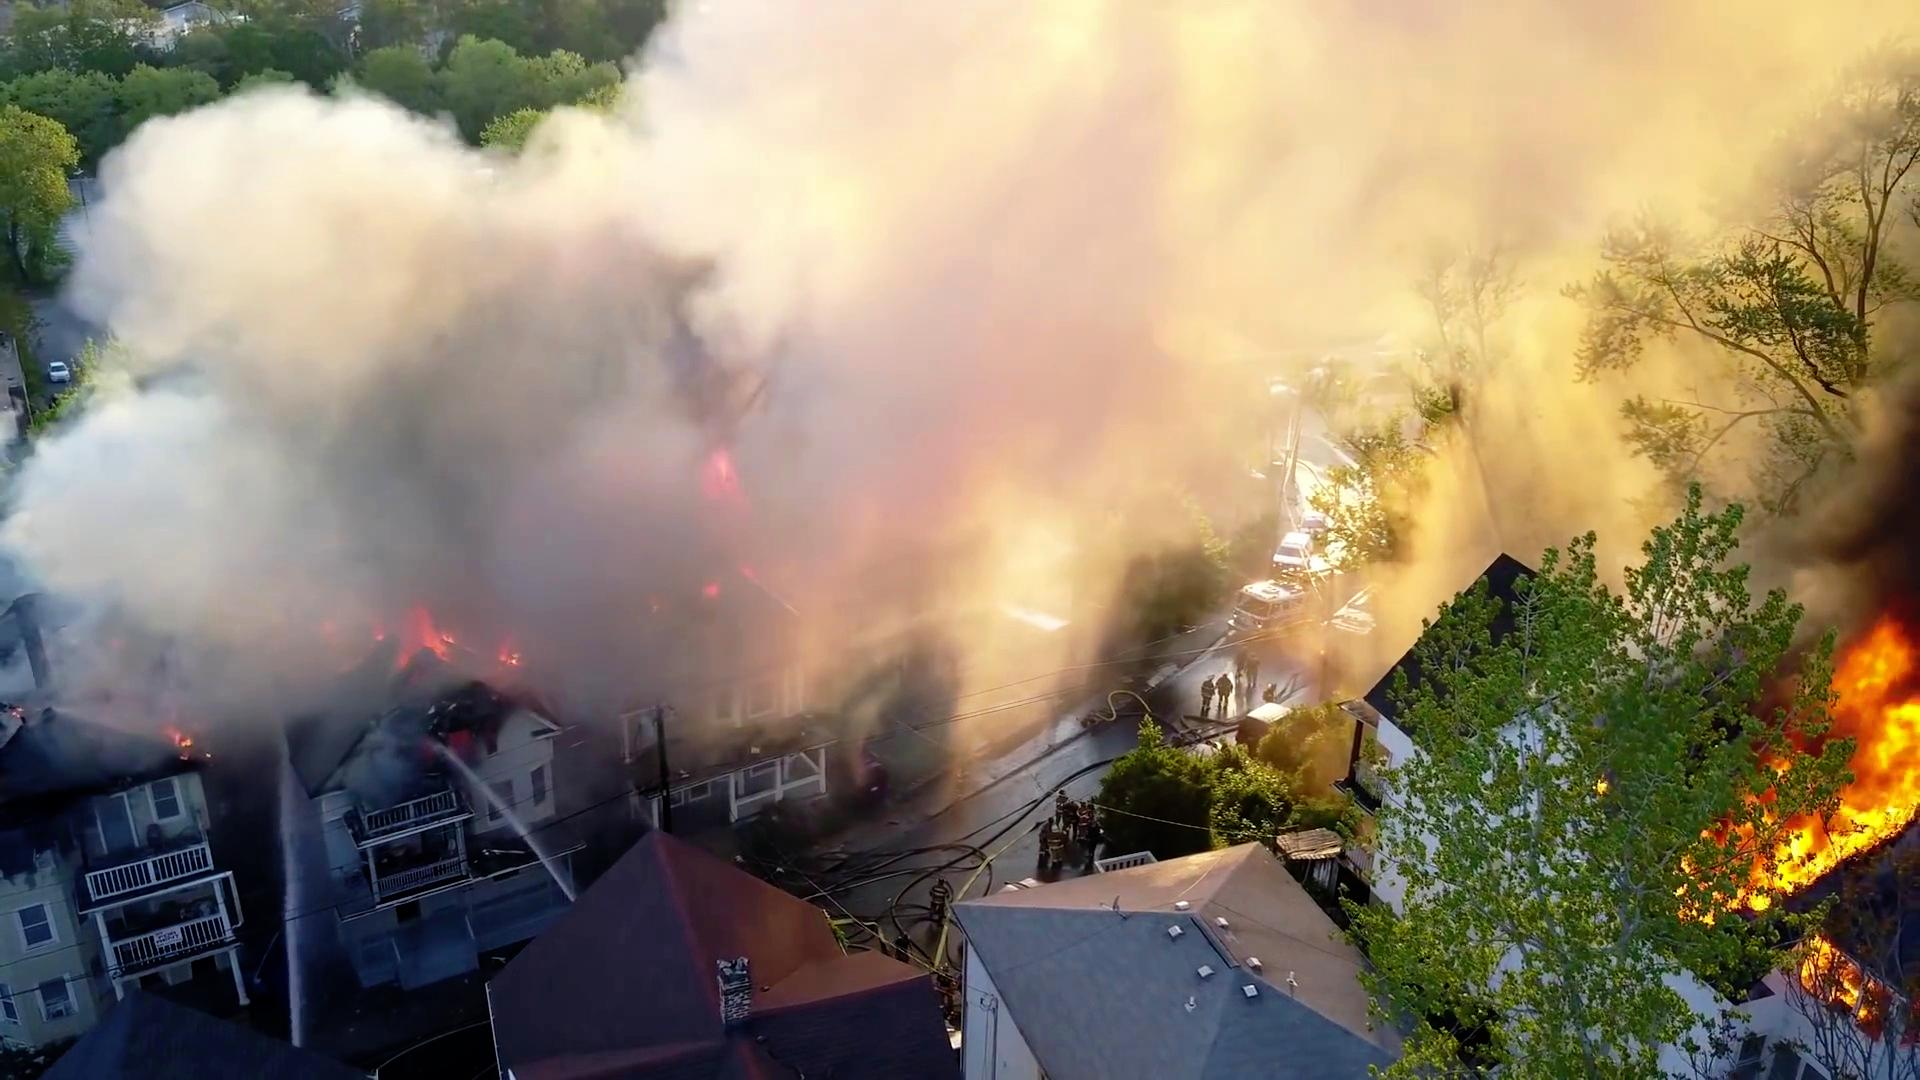fire: (1716, 620, 1920, 924)
smoke: (116, 163, 917, 642)
